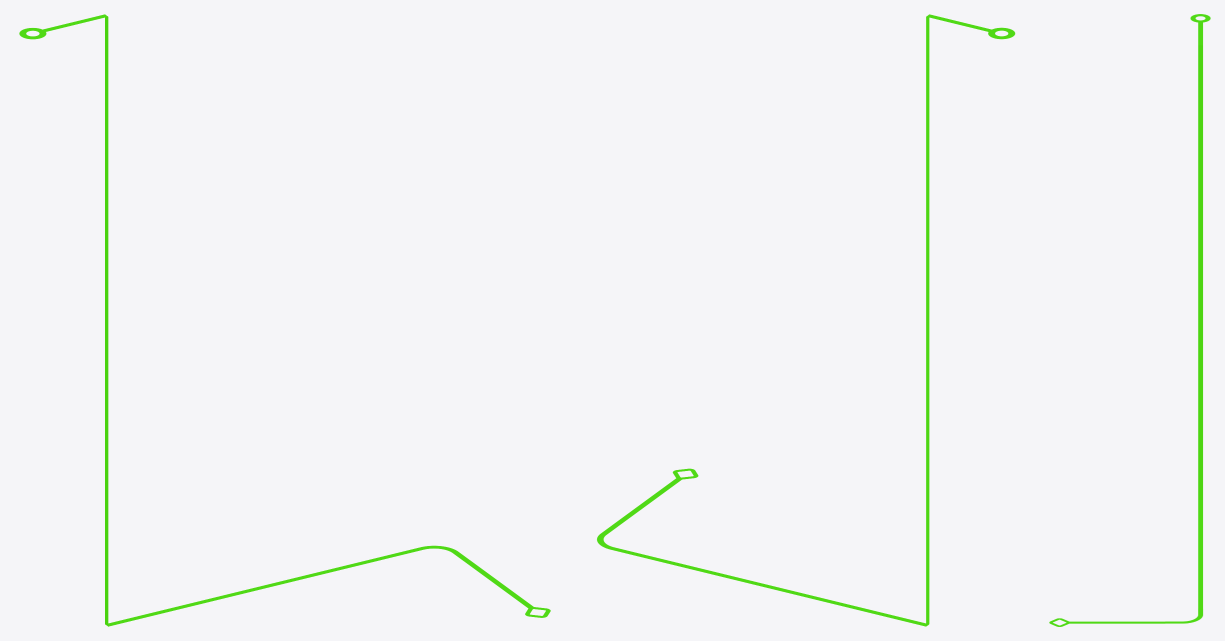
The model's file is 3_1_cl_active.glb.
3 views of the same model, side by side, from view 1: azimuth 30°, elevation 25°; view 2: azimuth 150°, elevation 25°; view 3: azimuth 270°, elevation 25° (orthographic). The views are drawn at different scales.
Visible parts, largest first — view 1: 3_1_cl_active; view 2: 3_1_cl_active; view 3: 3_1_cl_active.
Boxes of the visible parts, <box> form: 3_1_cl_active: <box>19,14,550,626</box>; 3_1_cl_active: <box>597,14,1015,626</box>; 3_1_cl_active: <box>1049,14,1210,626</box>.
Size of the model in its own units: 5.96 by 8 by 2.58.
Materials: 1 (1 with a texture image).
